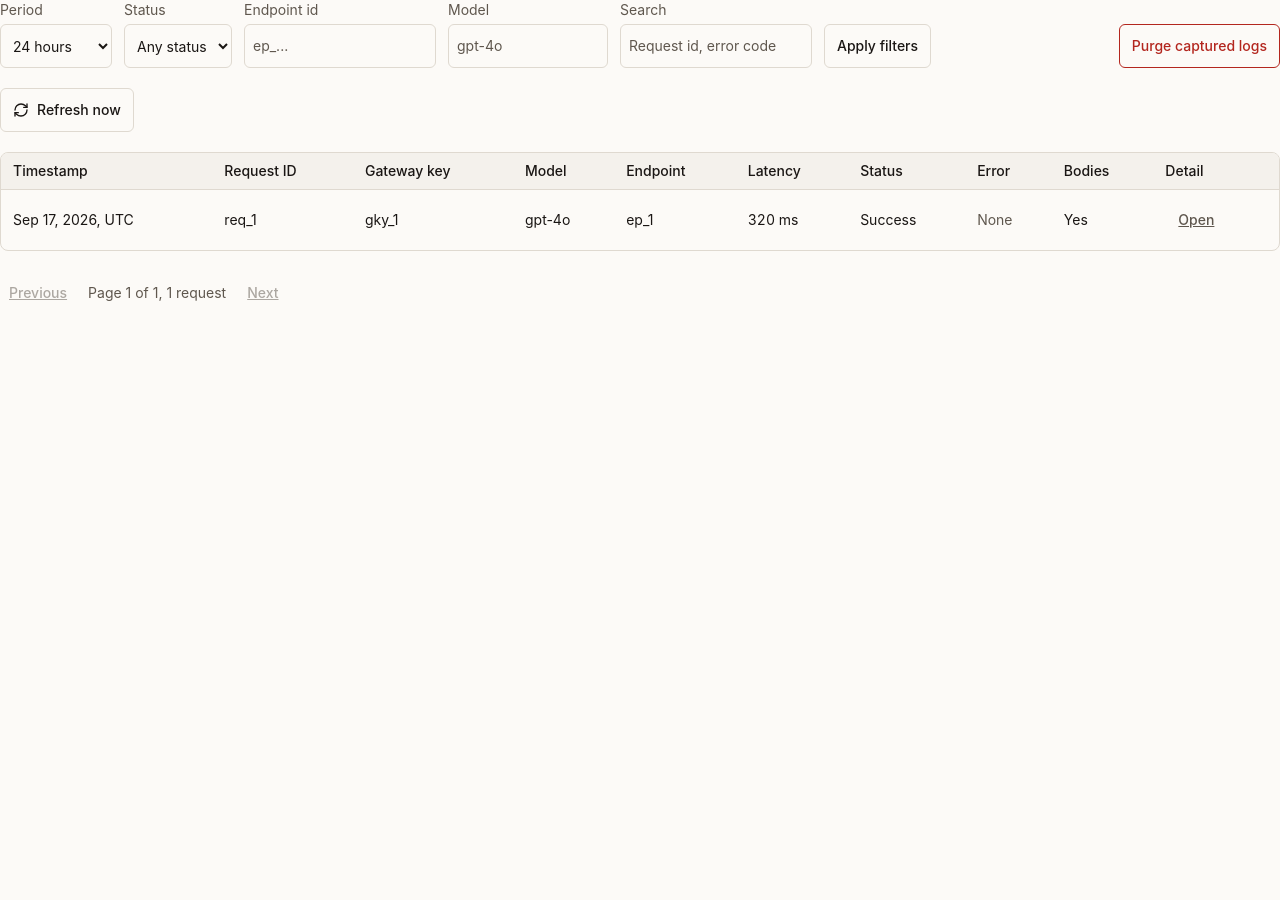
Scenario: the request detail and the purge dialog › opens the request detail with its captured bodies
Expected: the table is shown, top-left (1, 153), bottom-right (1279, 250)
Click the button "Open" at coordinates (1196, 220), box top-left (1165, 198), bottom-right (1227, 242)
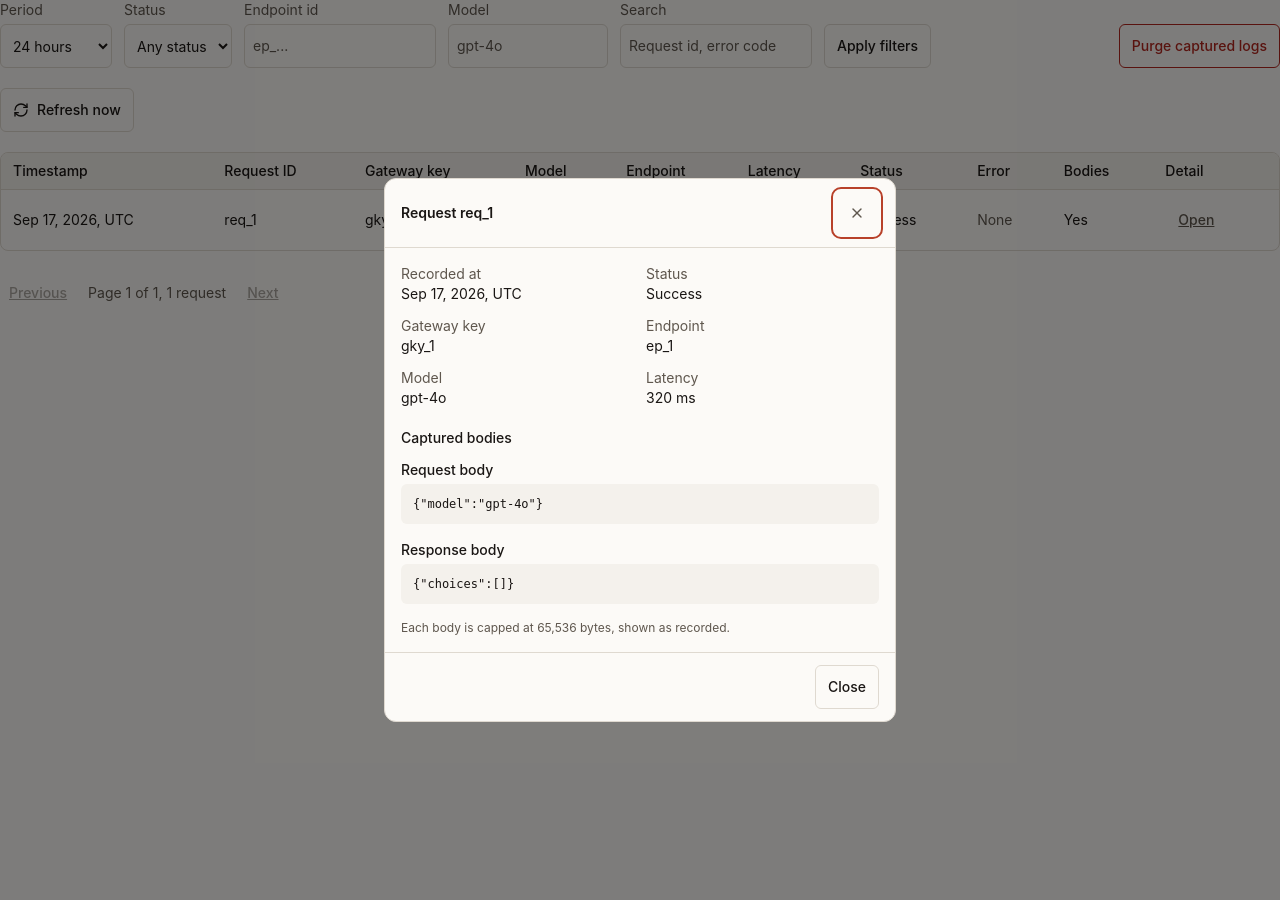
Expected: the heading "Request body" is shown, top-left (401, 461), bottom-right (493, 478)
Expected: the text "{\"model\":\"gpt-4o\"}" is shown, top-left (401, 484), bottom-right (879, 524)
Expected: the text "{\"choices\":[]}" is shown, top-left (401, 564), bottom-right (879, 604)
